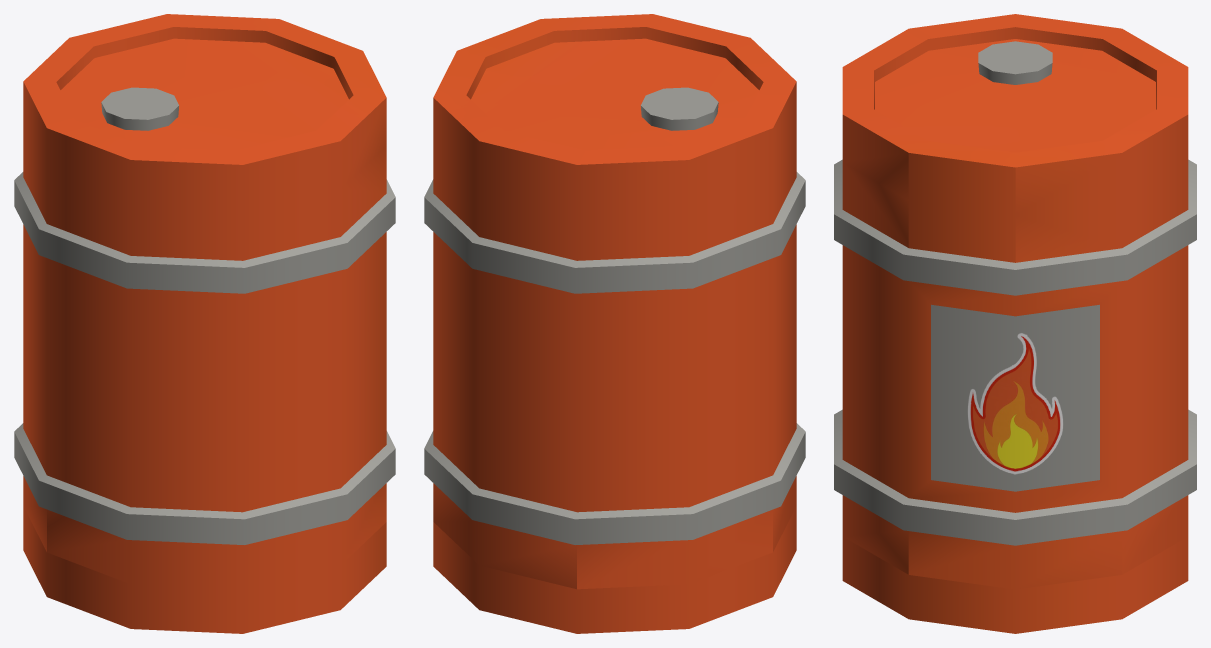
The model's file is BarelChancks.fbx.
The picture shows the model from 3 angles, left to right: view 1: azimuth 30°, elevation 25°; view 2: azimuth 150°, elevation 25°; view 3: azimuth 270°, elevation 25°; orthographic projection.
Parts seen in each view (by area): view 1: Object012, Object001, Barelle, Object002, Object008, Object004, Object003, Object007, Object009; view 2: Object001, Object007, Object006, Barelle, Object002, Object004, Object003, Object009, Object011, Object012, Object008; view 3: Object001, Object005, Barelle, Object002, Object006, Object012, Object004, Object003, Object010, Object008, Object011.
Part boxes in pixels (bbox=[...]): Object012: bbox=[47, 232, 386, 512]; Object001: bbox=[23, 14, 386, 212]; Barelle: bbox=[23, 130, 386, 260]; Object002: bbox=[23, 506, 386, 633]; Object008: bbox=[47, 483, 386, 589]; Object004: bbox=[14, 423, 395, 544]; Object003: bbox=[14, 172, 395, 293]; Object007: bbox=[23, 224, 46, 474]; Object009: bbox=[23, 476, 46, 551]; Object001: bbox=[433, 14, 796, 212]; Object007: bbox=[577, 258, 772, 512]; Object006: bbox=[433, 232, 576, 511]; Barelle: bbox=[433, 130, 796, 260]; Object002: bbox=[433, 506, 796, 633]; Object004: bbox=[424, 423, 805, 544]; Object003: bbox=[424, 172, 805, 293]; Object009: bbox=[577, 509, 772, 589]; Object011: bbox=[433, 483, 576, 589]; Object012: bbox=[773, 224, 796, 474]; Object008: bbox=[773, 476, 796, 551]; Object001: bbox=[842, 14, 1188, 215]; Object005: bbox=[908, 281, 1122, 512]; Barelle: bbox=[842, 162, 1188, 262]; Object002: bbox=[842, 537, 1188, 633]; Object006: bbox=[1122, 245, 1188, 497]; Object012: bbox=[842, 245, 908, 497]; Object004: bbox=[834, 409, 1196, 545]; Object003: bbox=[834, 159, 1196, 295]; Object010: bbox=[908, 531, 1122, 589]; Object008: bbox=[842, 495, 908, 574]; Object011: bbox=[1122, 495, 1188, 574].
Bounding box in the file's own units: 337 × 456 × 321.
